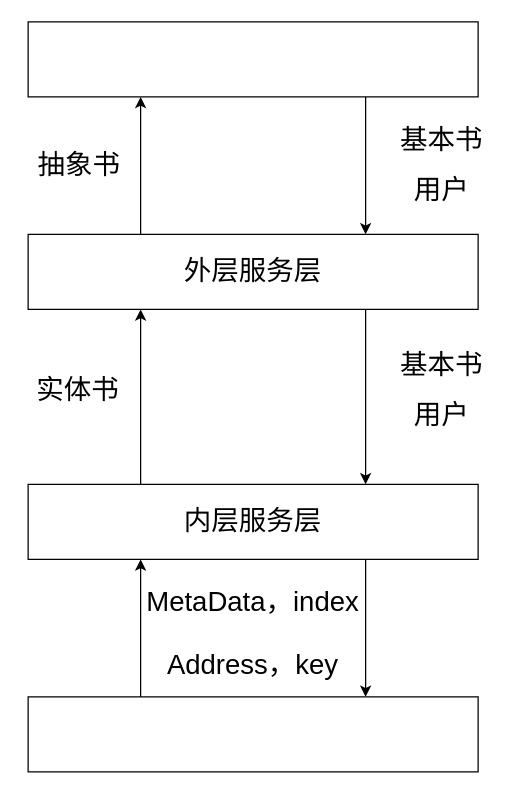
Image size: 519x794. Some labels were removed from this diagram. Here are the shapes that lost their labels. From the top down, the centre of each, then its label:
point (252, 59): 控制层
point (252, 734): 数据层
